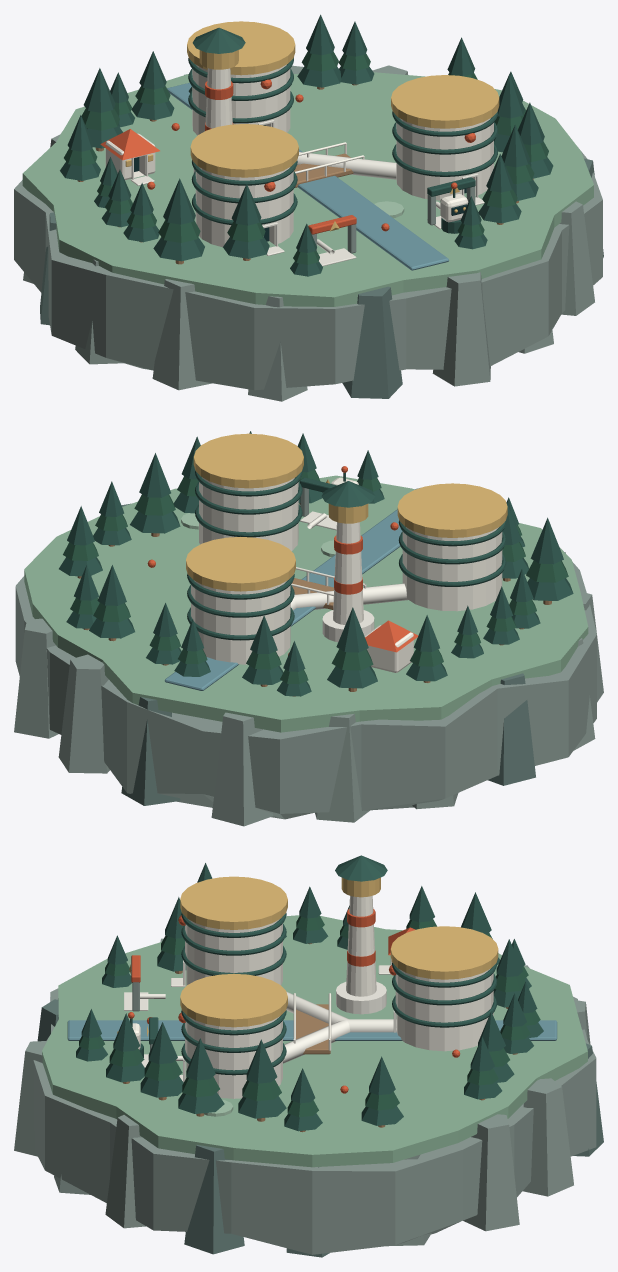
File: chapter-06.glb
3 views of the same model, one above another, from view 1: azimuth 30°, elevation 25°; view 2: azimuth 150°, elevation 25°; view 3: azimuth 270°, elevation 25° (orthographic). The views are drawn at different scales.
Parts seen in each view (by area): view 1: terrain, rock_base, partition_river, vault_cap_1, vault_cap_0, landmark_replicas_1, cliff_facet_13, cliff_facet_12, landmark_replicas_0, cliff_facet_10, vault_cap_2, landmark_replicas_2 (+42 smaller); view 2: terrain, rock_base, landmark_replicas_0, vault_cap_0, vault_cap_1, vault_cap_2, landmark_replicas_2, cliff_facet_03, landmark_replicas_1, cliff_facet_05, cliff_facet_02, partition_river (+37 smaller); view 3: terrain, rock_base, landmark_replicas_2, vault_cap_2, vault_cap_0, vault_cap_1, cliff_facet_03, cliff_facet_02, landmark_replicas_0, landmark_replicas_1, cliff_facet_16, cliff_facet_15 (+36 smaller).
Part boxes in pixels (x1,y1,x2,y2): terrain: (22, 72, 593, 306); rock_base: (14, 131, 602, 390); partition_river: (167, 82, 448, 270); vault_cap_1: (391, 75, 499, 128); vault_cap_0: (190, 124, 298, 177); landmark_replicas_1: (396, 118, 493, 200); cliff_facet_13: (432, 272, 490, 386); cliff_facet_12: (342, 286, 402, 398); landmark_replicas_0: (195, 167, 293, 247); cliff_facet_10: (152, 279, 211, 390); vault_cap_2: (187, 21, 295, 75); landmark_replicas_2: (192, 64, 290, 135); terrain: (24, 475, 588, 732); rock_base: (15, 562, 596, 819); landmark_replicas_0: (402, 527, 502, 611); vault_cap_0: (397, 483, 507, 537); vault_cap_1: (193, 433, 303, 488); vault_cap_2: (186, 537, 295, 591); landmark_replicas_2: (191, 580, 290, 664); cliff_facet_03: (58, 654, 109, 773); landmark_replicas_1: (199, 477, 298, 551); cliff_facet_05: (211, 712, 273, 826); cliff_facet_02: (14, 618, 58, 738); partition_river: (164, 509, 402, 690); terrain: (42, 915, 587, 1167); rock_base: (33, 988, 596, 1254); landmark_replicas_2: (395, 969, 493, 1051); vault_cap_2: (390, 926, 498, 979); vault_cap_0: (180, 876, 287, 929); vault_cap_1: (180, 973, 287, 1027); cliff_facet_03: (523, 1078, 573, 1196); cliff_facet_02: (463, 1114, 519, 1231); landmark_replicas_0: (185, 919, 282, 985); landmark_replicas_1: (185, 1016, 282, 1098); cliff_facet_16: (184, 1145, 244, 1254); cliff_facet_15: (105, 1115, 145, 1228).
Bounding box in the file's own units: 12 × 5.99 × 12.05.
